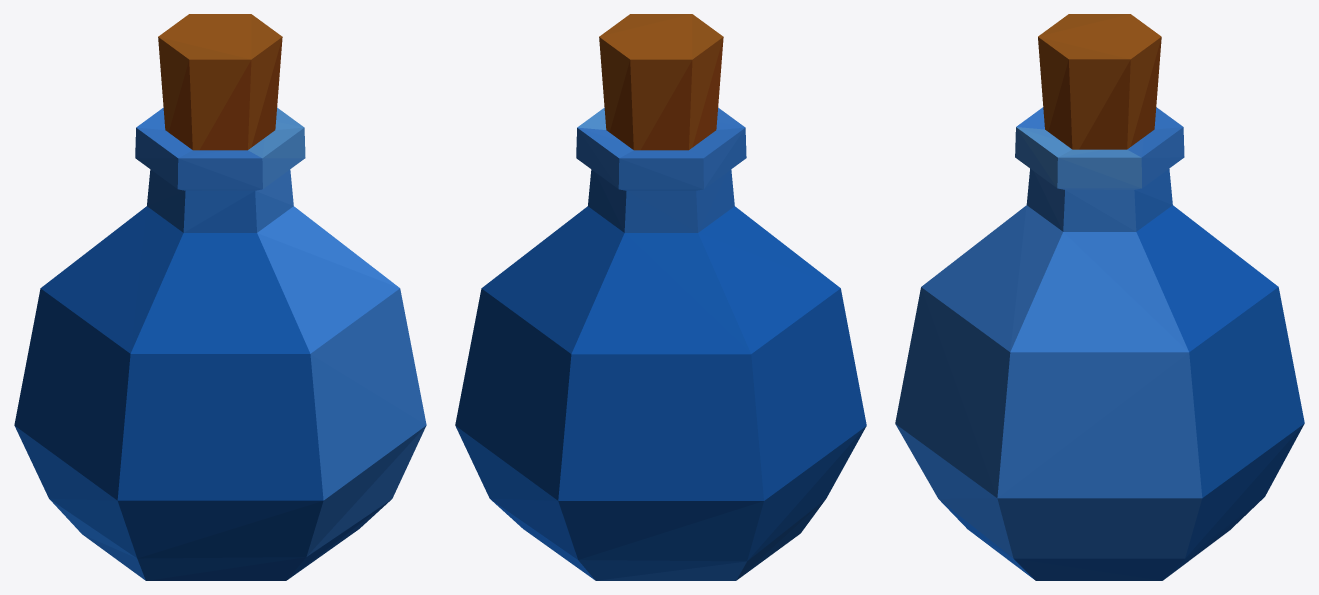
File: prop_bottle_potion_mana5.fbx
3 views of the same model, side by side, from view 1: azimuth 30°, elevation 25°; view 2: azimuth 150°, elevation 25°; view 3: azimuth 270°, elevation 25° (orthographic).
Parts seen in each view (by area): view 1: prop_bottle_potion_mana5; view 2: prop_bottle_potion_mana5; view 3: prop_bottle_potion_mana5.
Part boxes in pixels (left/top/right/bottom): prop_bottle_potion_mana5: left=14, top=14, right=426, bottom=580; prop_bottle_potion_mana5: left=455, top=14, right=866, bottom=580; prop_bottle_potion_mana5: left=895, top=14, right=1304, bottom=580.
Size of the model in its own units: 0.532 by 0.8155 by 0.6136.
